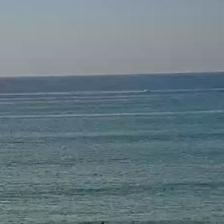surfer: (100, 221, 106, 223)
